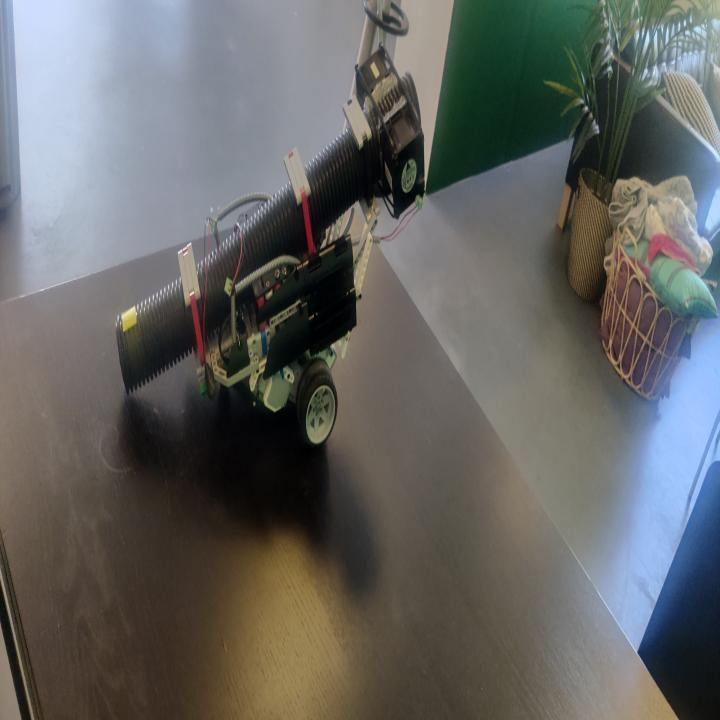robot: (116, 46, 426, 442)
robot-front: (117, 284, 189, 386)
